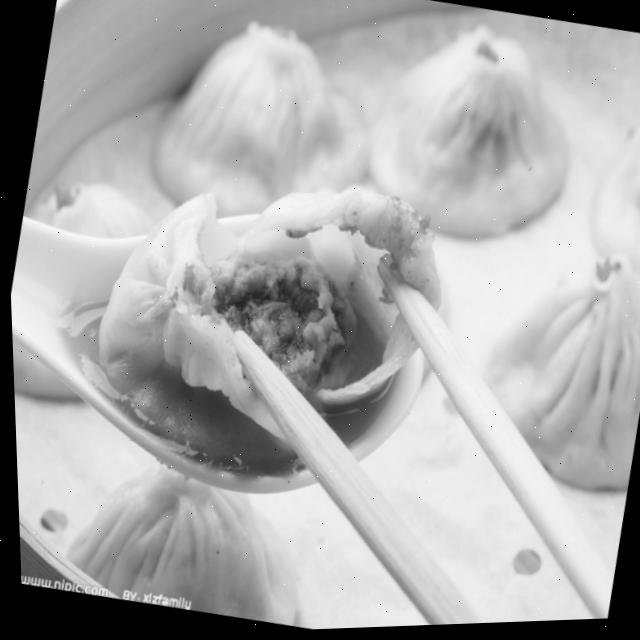带馅早点: (4, 0, 640, 640)
